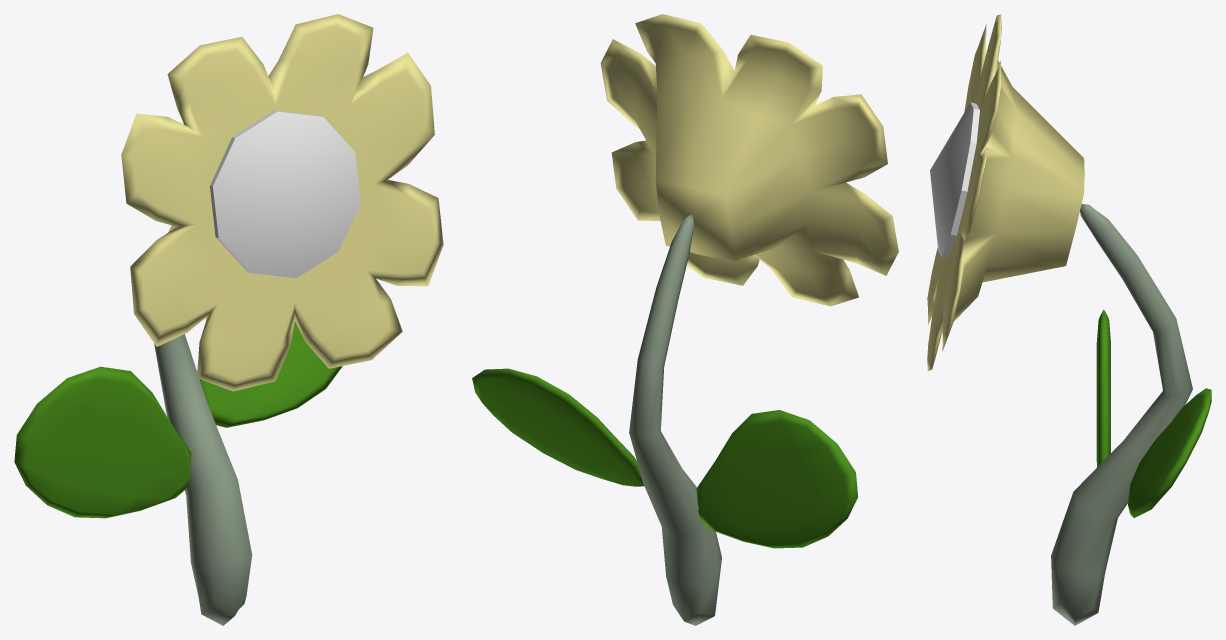
Rendered from Flower.fbx.
The picture shows the model from 3 angles, left to right: view 1: azimuth 30°, elevation 25°; view 2: azimuth 150°, elevation 25°; view 3: azimuth 270°, elevation 25°; orthographic projection. The views are drawn at different scales.
Visible parts, largest first — view 1: pCube2, pCube3, pCylinder1, pCube1, pCube4; view 2: pCube2, pCube3, pCube1, pCube4; view 3: pCube2, pCube1, pCube4, pCylinder1, pCube3.
Part boxes in pixels (x1,y1,x2,y2): pCube2: (121, 14, 443, 391); pCube3: (14, 366, 191, 518); pCylinder1: (210, 110, 360, 278); pCube1: (154, 334, 252, 625); pCube4: (199, 321, 342, 427); pCube2: (600, 14, 898, 306); pCube3: (696, 410, 857, 548); pCube1: (629, 213, 721, 625); pCube4: (472, 368, 643, 486); pCube2: (927, 14, 1084, 371); pCube1: (1051, 204, 1192, 625); pCube4: (1128, 388, 1211, 517); pCylinder1: (930, 102, 979, 258); pCube3: (1096, 309, 1110, 466).
Bounding box in the file's own units: 28.93 × 45.04 × 19.9.
